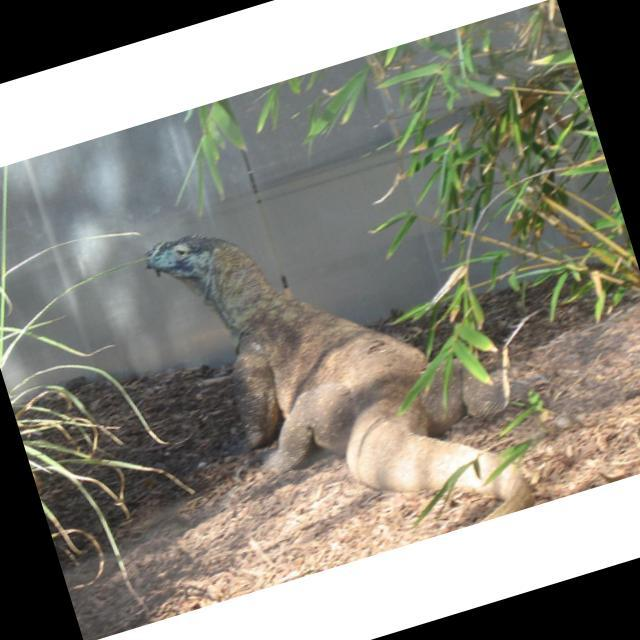KomodoDragon: (138, 142, 582, 592)
